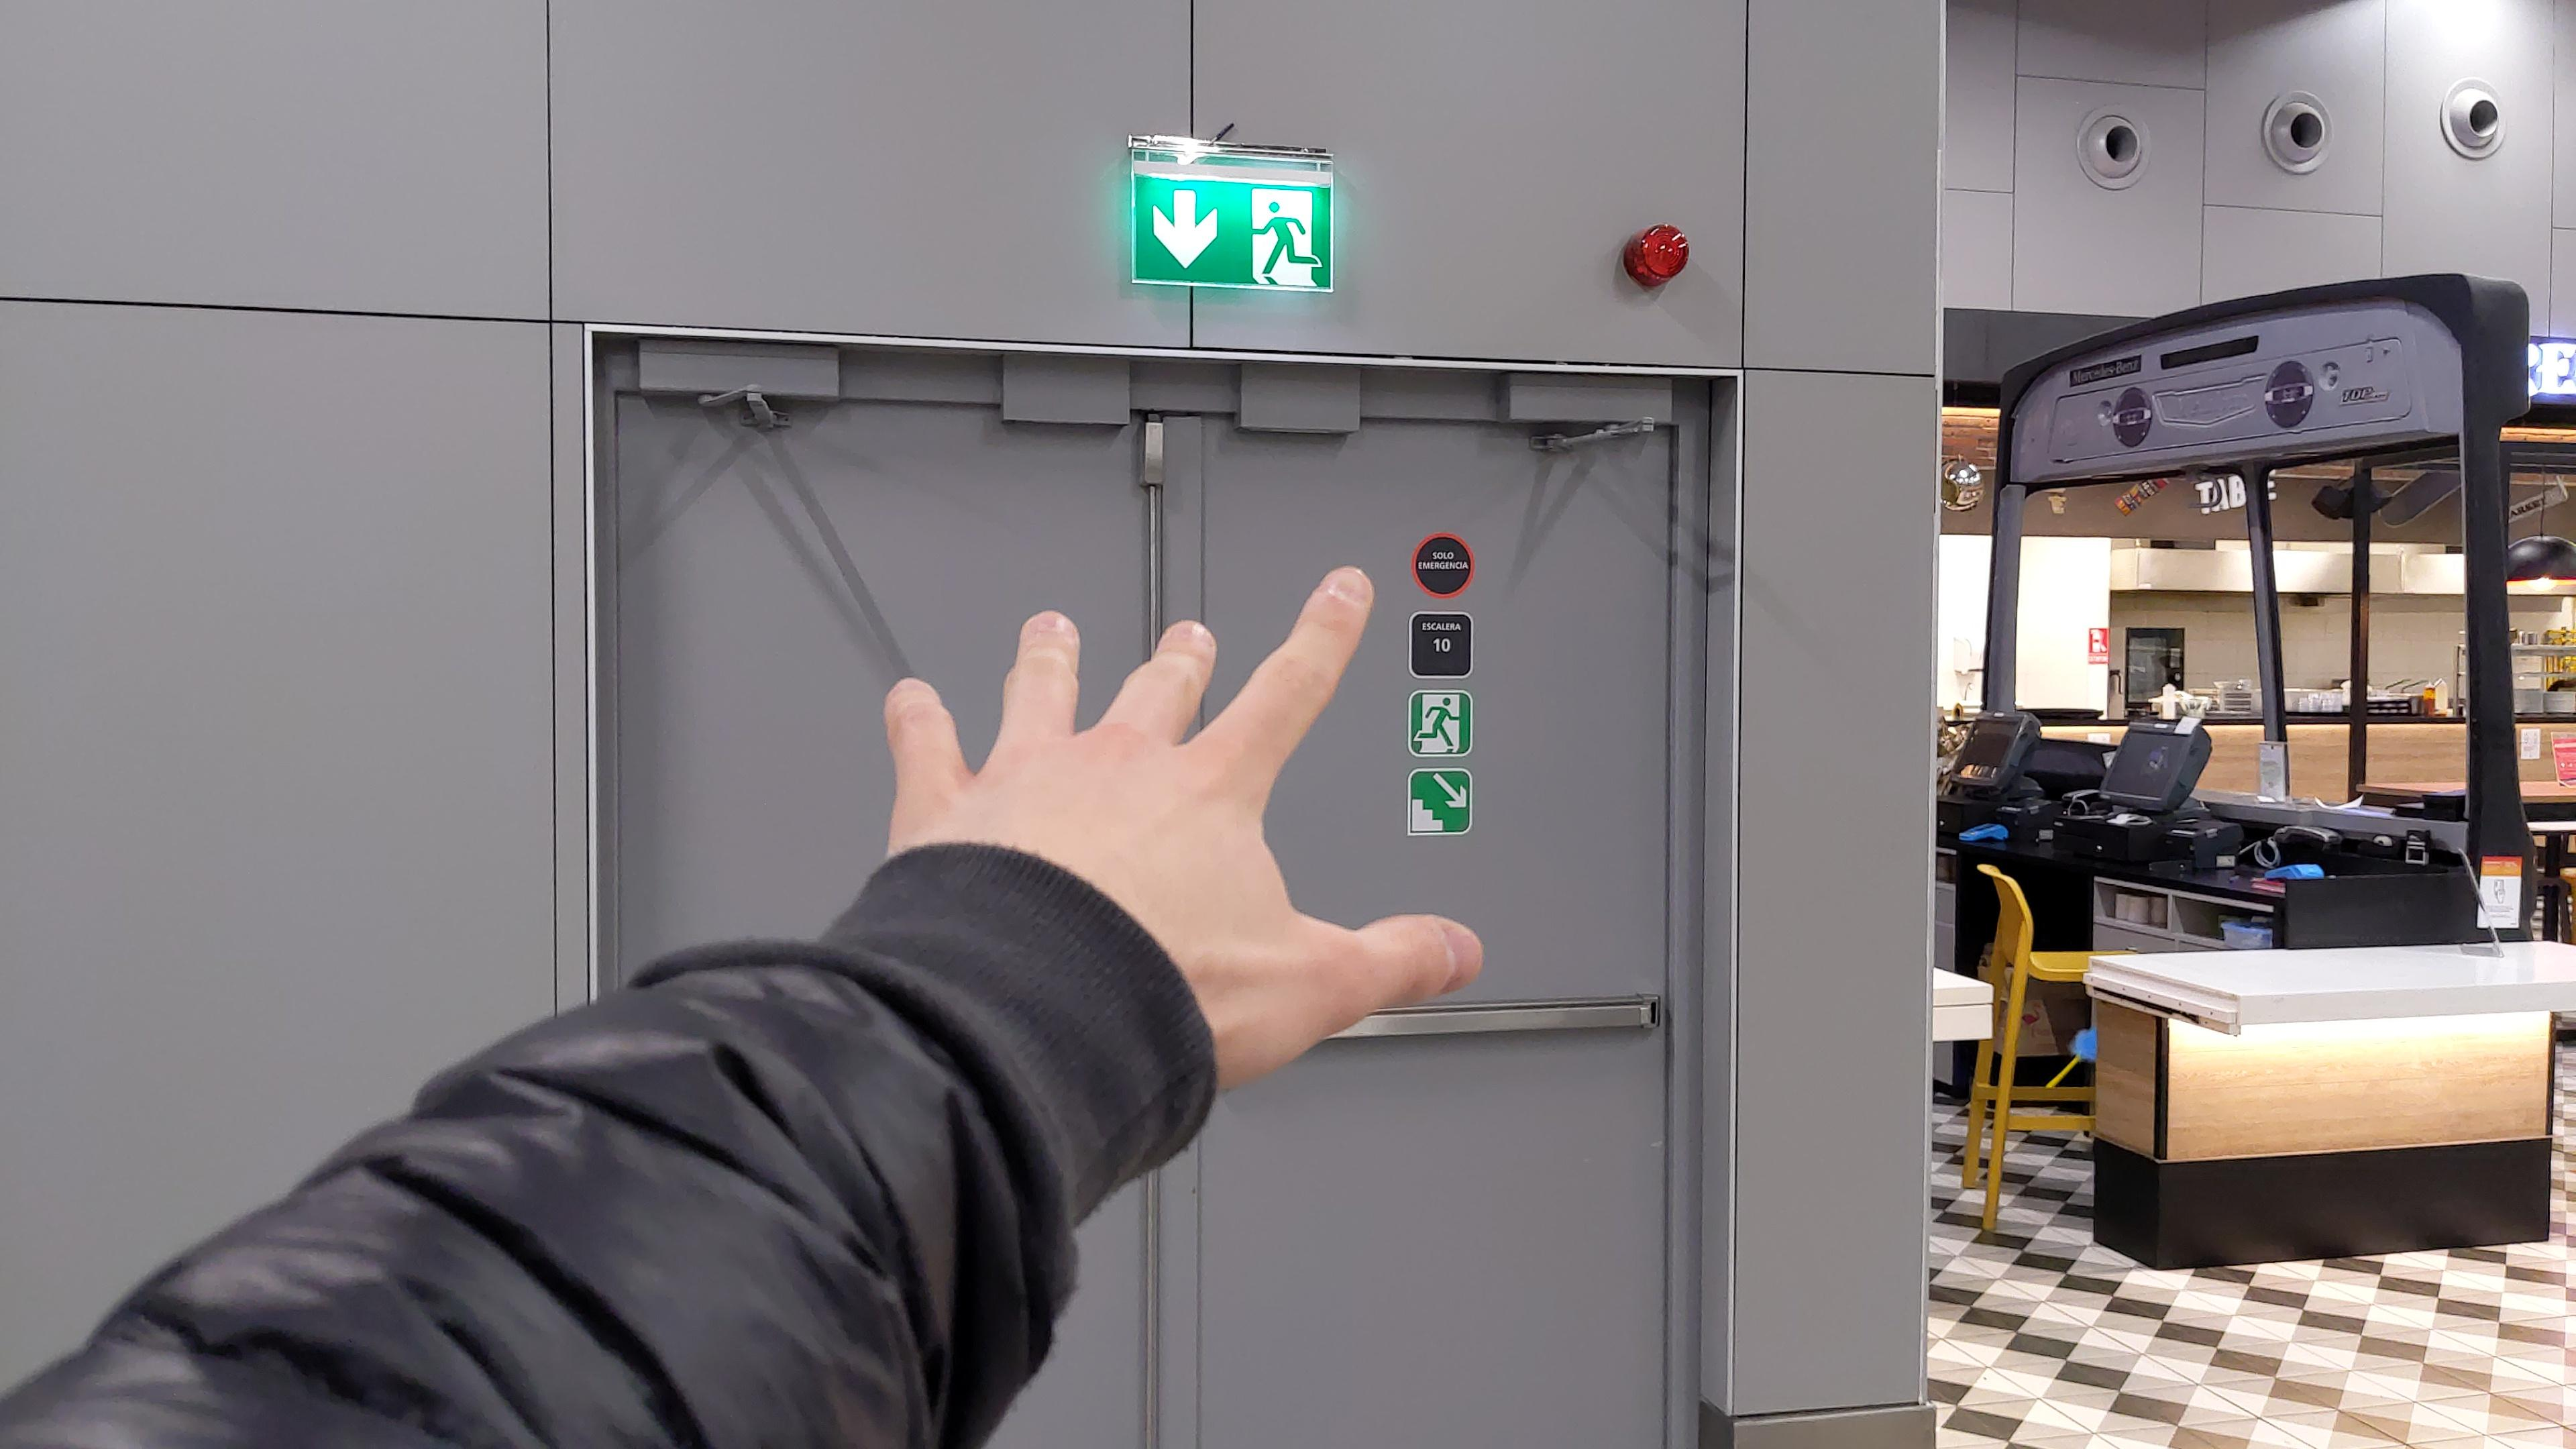emergency down arrow: (1148, 185, 1220, 271)
emergency exit: (1244, 189, 1327, 289), (1415, 694, 1462, 751)
